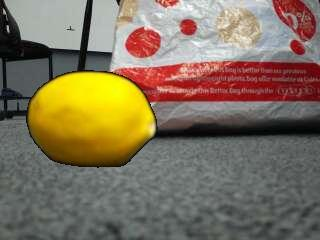lemon: (31, 72, 157, 166)
